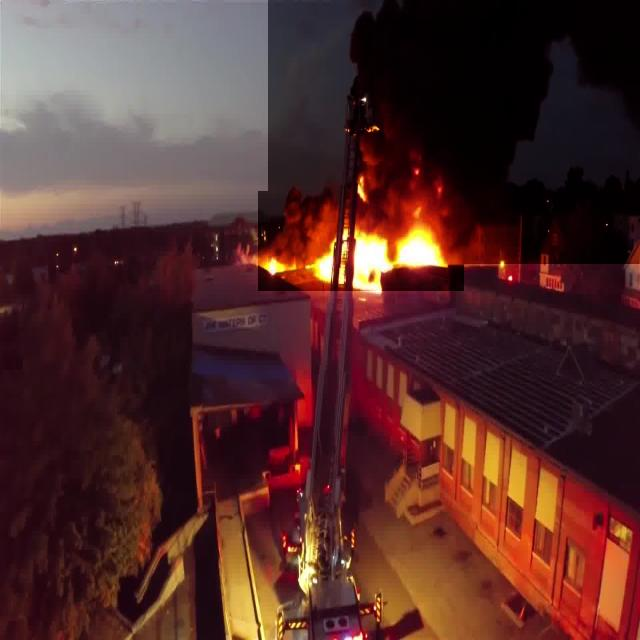Fire: (258, 192, 464, 292)
Smoke: (268, 0, 640, 264)
